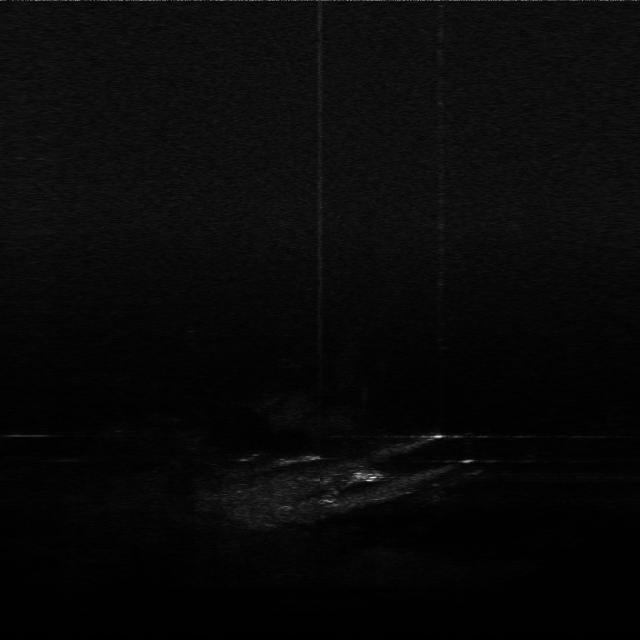rov: (349, 467, 383, 485)
